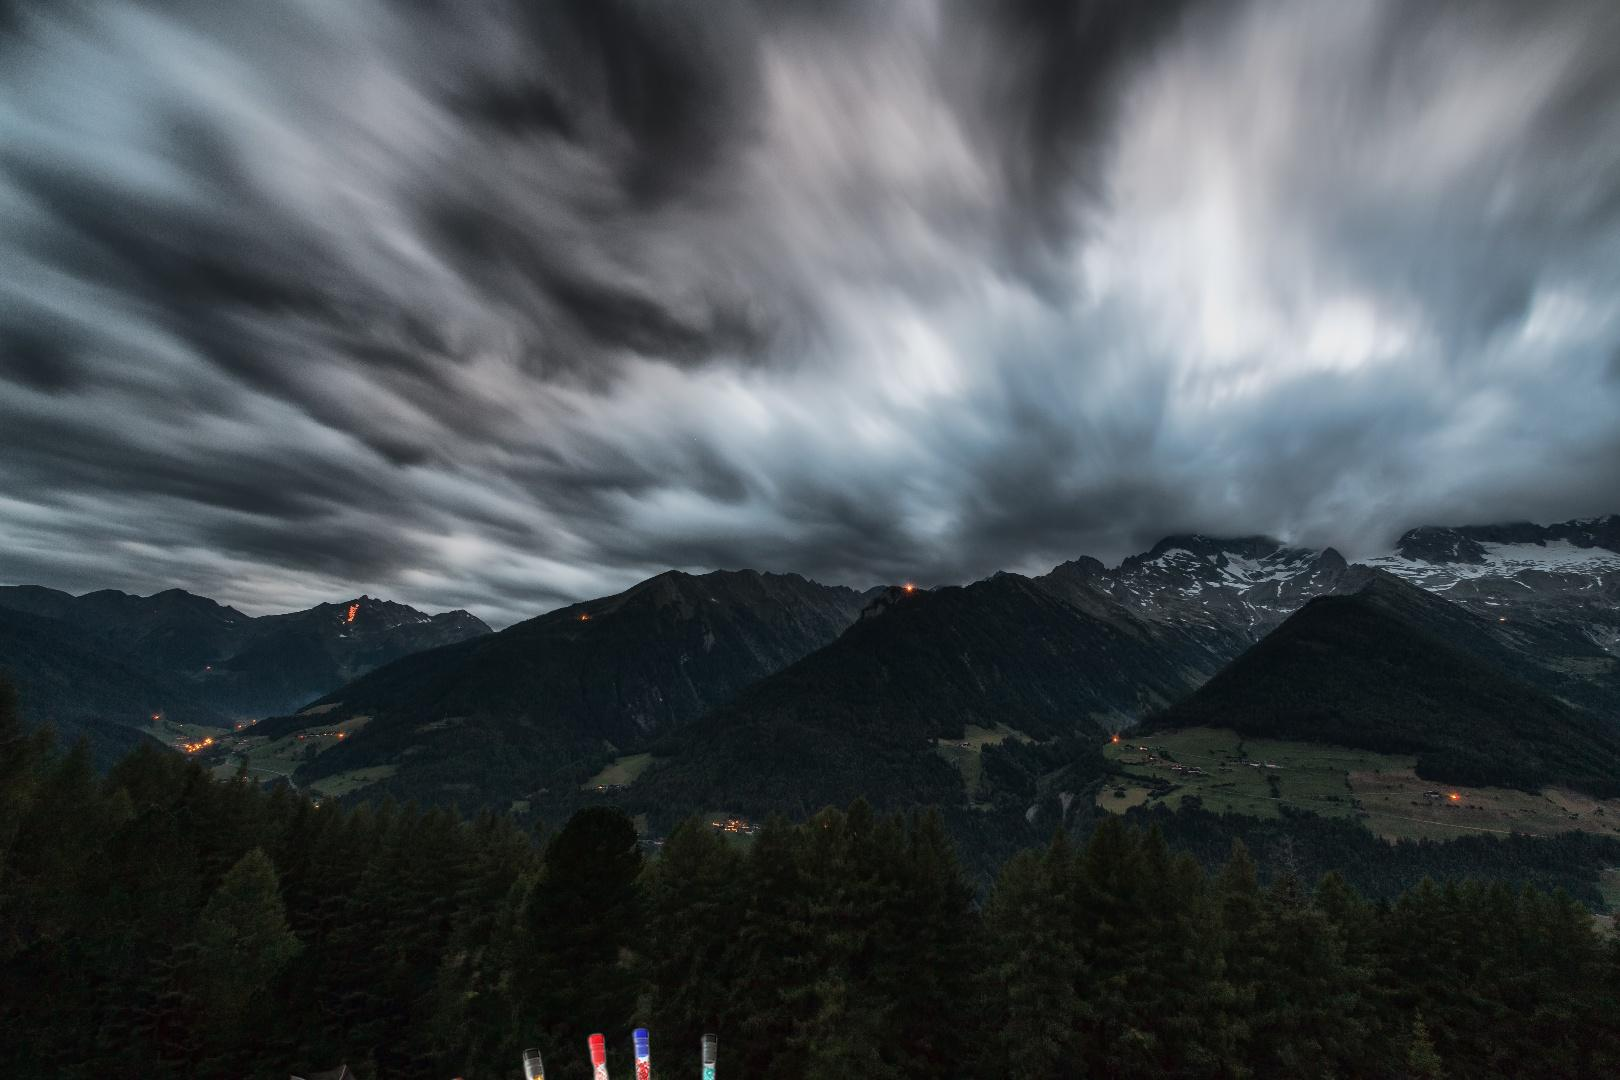clothes: (69, 1061, 474, 1080)
penholder: (385, 1021, 1121, 1080)
